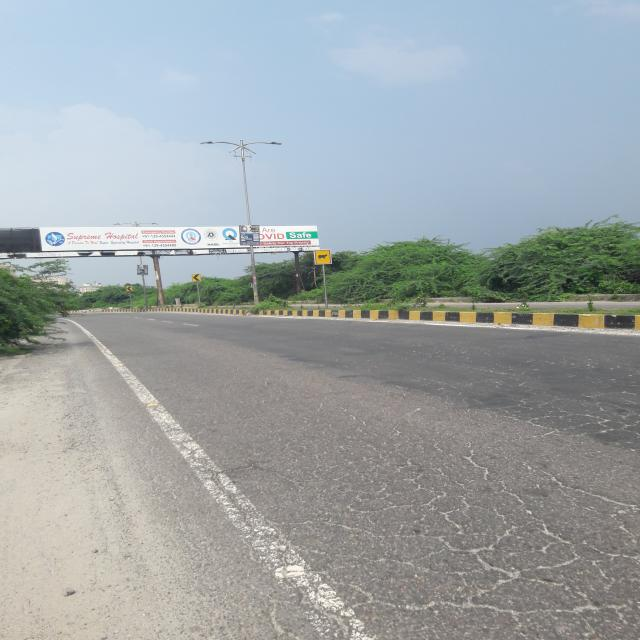TURN_LEFT: (192, 274, 201, 282), (126, 286, 132, 292)
